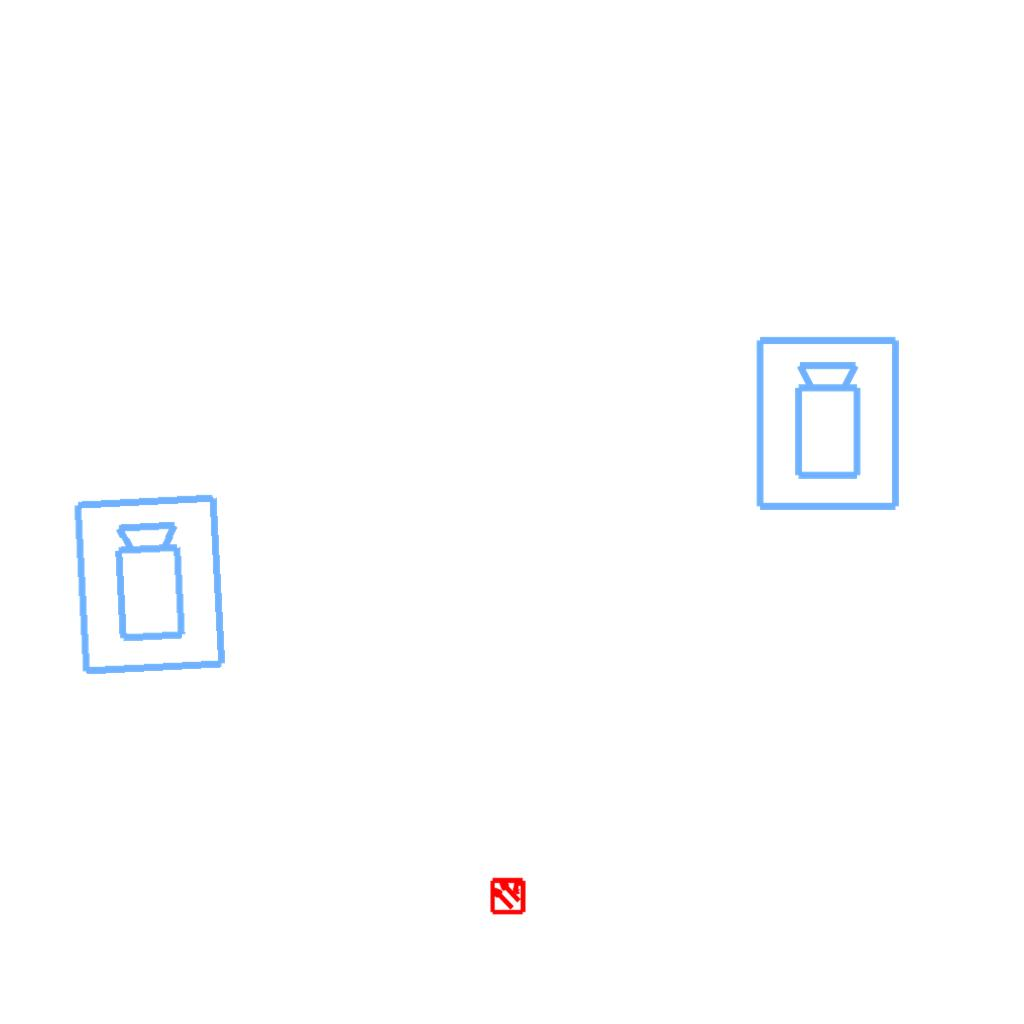KFO_Kamera_mit_Festobjektiv: (69, 490, 233, 680), (752, 333, 906, 515)
OT_Multisensormelder_(Kombination_RMO_WMD): (480, 867, 536, 923)
